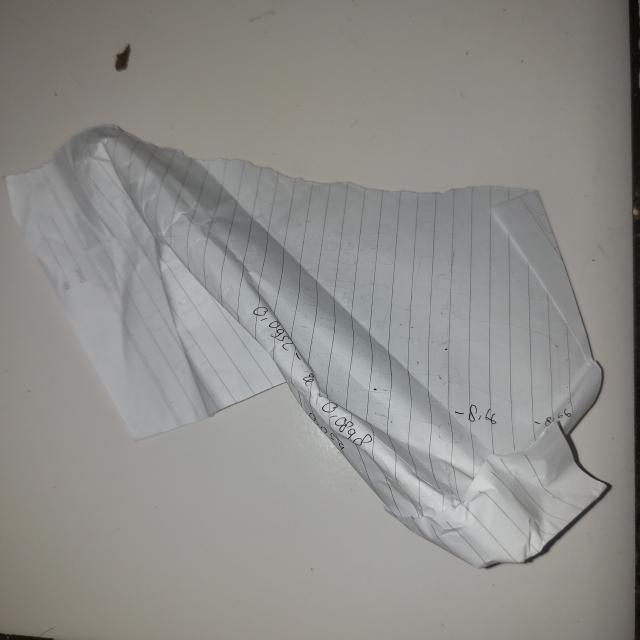Organik: (3, 125, 609, 571)
